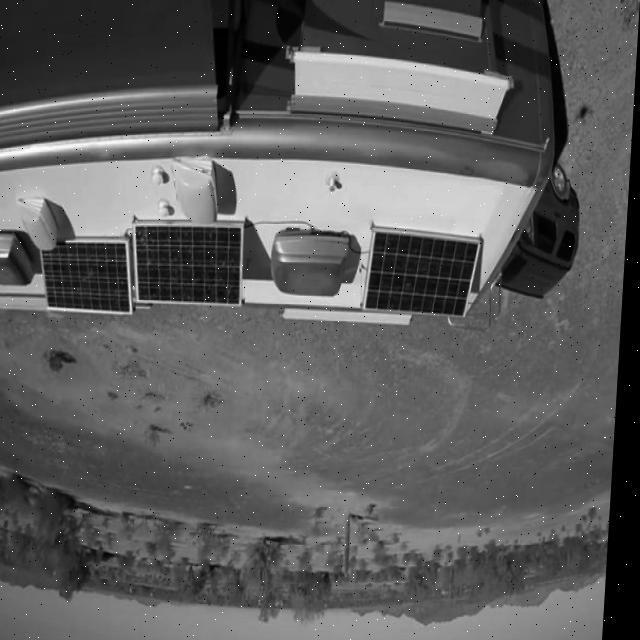Normal Solar Panel: (367, 232, 484, 316), (133, 226, 246, 304), (41, 243, 138, 313)
